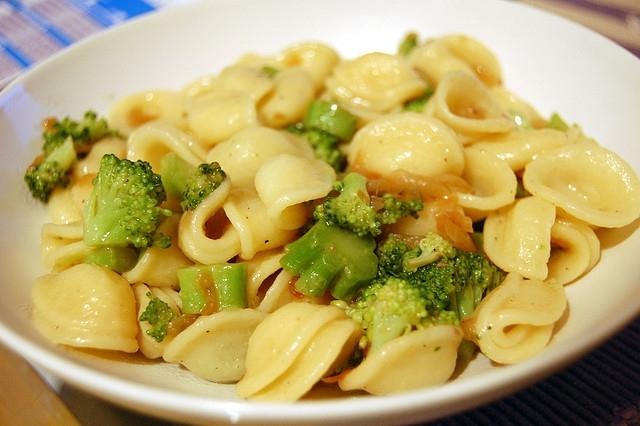broccoli: (332, 276, 461, 357), (82, 154, 172, 248), (278, 219, 378, 301), (398, 248, 506, 320), (282, 100, 356, 172), (323, 172, 382, 238), (176, 262, 249, 315), (24, 133, 78, 204), (138, 292, 180, 342), (159, 150, 198, 201), (406, 230, 454, 270), (403, 87, 432, 114), (546, 112, 569, 136), (398, 32, 418, 59)
